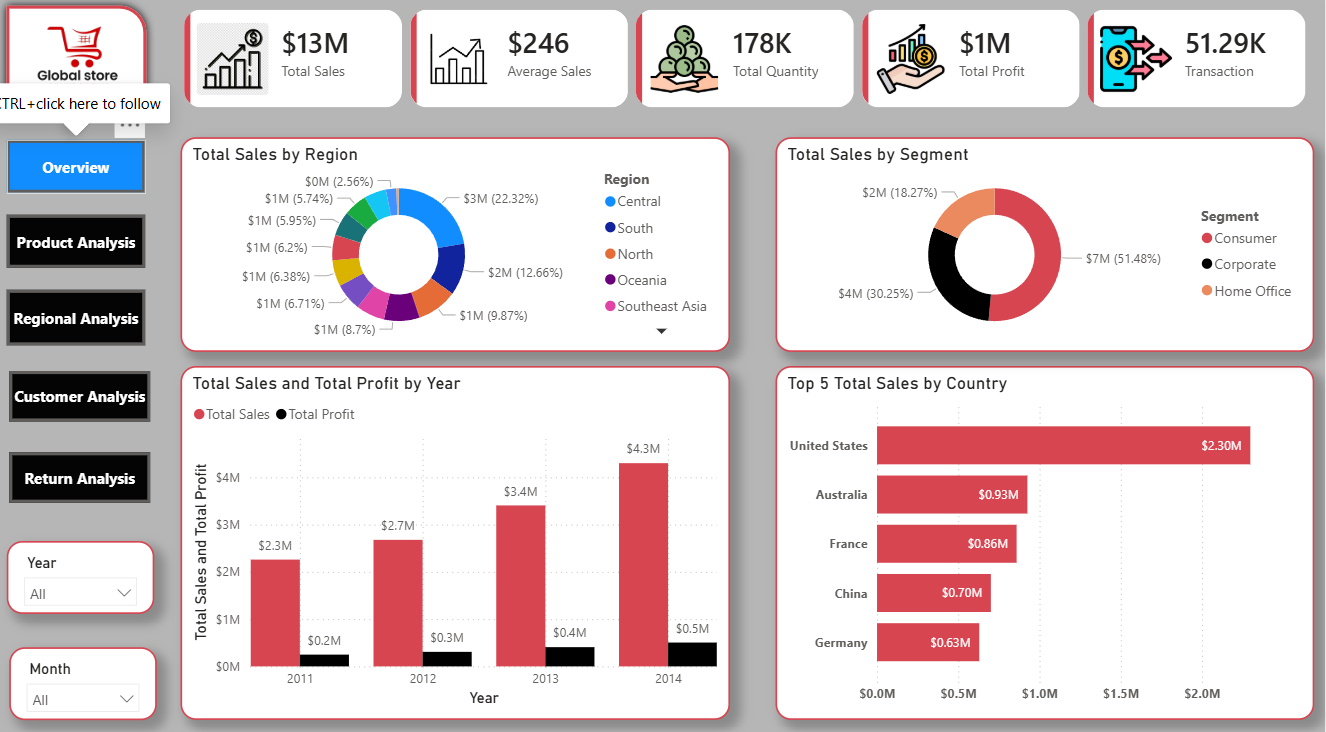

The page's visual inventory and layout, read from the dashboard file:
{"tool":"powerbi","page":{"name":"Overview","canvas":[1280,720],"ordinal":0},"visuals":[{"type":"cardVisual","fields":{"Data":["Orders.Total Sales","Orders.Average Sales","Sum(Orders.Quantity)","Orders.Total Profit","CountNonNull(Orders.Quantity)"]},"box":[162.5,1.2,1117.5,128.8],"z":0,"group":"g1"},{"type":"actionButton","box":[8.8,216.2,133.8,51.2],"z":0},{"type":"donutChart","fields":{"Y":["Orders.Total Sales"],"Category":["Orders.Region"]},"box":[176.3,141.2,530,207.5],"z":1000,"group":"g1"},{"type":"actionButton","box":[8.8,288.8,133.8,53.8],"z":1000},{"type":"clusteredBarChart","title":"Top 5 Total Sales by Country","fields":{"Category":["Orders.Country"],"Y":["Orders.Total Sales"]},"box":[750,362.4,520,341.2],"z":2000,"group":"g1"},{"type":"actionButton","box":[11.2,366.2,136.2,48.8],"z":2000},{"type":"donutChart","fields":{"Y":["Orders.Total Sales"],"Category":["Orders.Segment"]},"box":[750,141.2,520,207.5],"z":3000,"group":"g1"},{"type":"actionButton","box":[8.8,143.8,133.8,51.2],"z":3000},{"type":"shape","box":[0,6.2,151.2,120],"z":4000},{"type":"image","box":[11.2,15,131.2,100],"z":5000},{"type":"slicer","fields":{"Values":["Orders.Order Date.Variation.Date Hierarchy.Year"]},"box":[8.8,531.2,142.5,70],"z":6000},{"type":"slicer","fields":{"Values":["Orders.Order Date.Variation.Date Hierarchy.Month"]},"box":[11.2,633.8,142.5,70],"z":7000},{"type":"actionButton","box":[11.2,445,136.2,48.8],"z":8000},{"type":"group","id":"g1","title":"Group 1","box":[162.5,1.2,1117.5,702.5],"z":9000},{"type":"clusteredColumnChart","fields":{"Category":["Orders.Order Date.Variation.Date Hierarchy.Year"],"Y":["Orders.Total Sales","Orders.Total Profit"]},"box":[176.3,362.4,530,341.2],"z":12000,"group":"g1"}]}

Visuals, with their boxes in screenshot pixels (x1, y1, x2, y2), scaled from the page's 1280x720 canvas onto the 1326x732 screenshot:
cardVisual - Orders.Total Sales x Orders.Average Sales: bbox=[168, 1, 1325, 132]
actionButton: bbox=[9, 220, 148, 272]
donutChart - Orders.Total Sales x Orders.Region: bbox=[183, 144, 732, 355]
actionButton: bbox=[9, 294, 148, 348]
"Top 5 Total Sales by Country" clusteredBarChart: bbox=[777, 368, 1316, 715]
actionButton: bbox=[12, 372, 153, 422]
donutChart - Orders.Total Sales x Orders.Segment: bbox=[777, 144, 1316, 355]
actionButton: bbox=[9, 146, 148, 198]
shape: bbox=[0, 6, 157, 128]
image: bbox=[12, 15, 148, 117]
slicer - Orders.Order Date.Variation.Date Hierarchy.Year: bbox=[9, 540, 157, 611]
slicer - Orders.Order Date.Variation.Date Hierarchy.Month: bbox=[12, 644, 159, 716]
actionButton: bbox=[12, 452, 153, 502]
"Group 1" group: bbox=[168, 1, 1325, 715]
clusteredColumnChart - Orders.Order Date.Variation.Date Hierarchy.Year x Orders.Total Sales: bbox=[183, 368, 732, 715]
